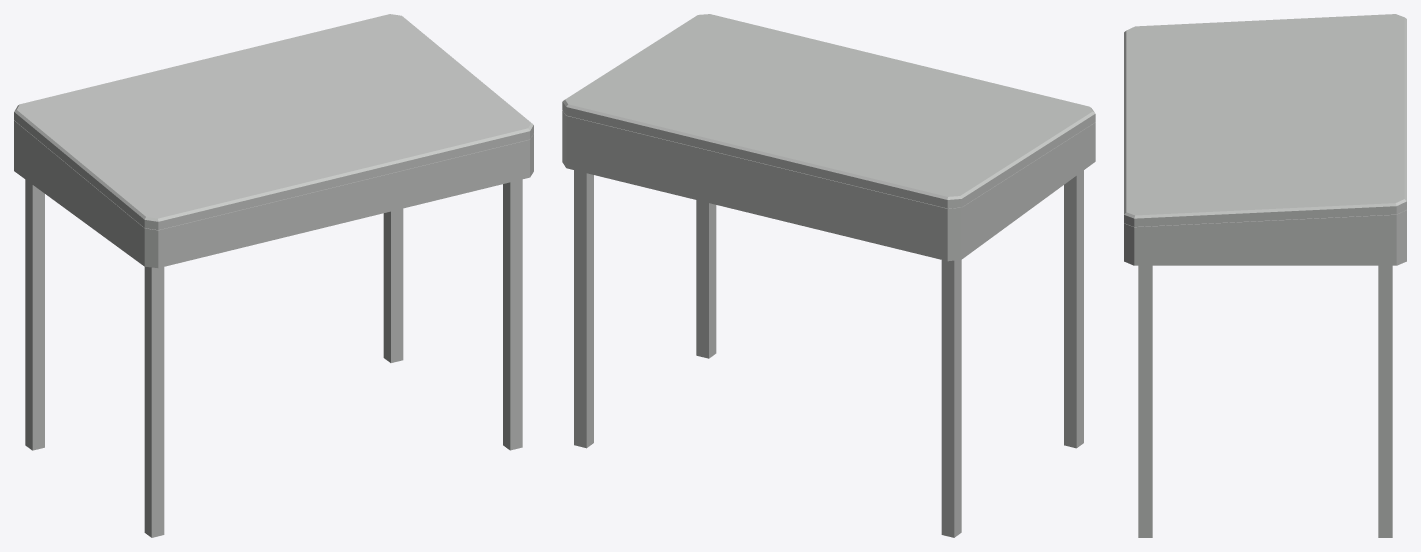
Rendered from SM_Cart_BaoRoof_01.fbx.
The picture shows the model from 3 angles, left to right: view 1: azimuth 30°, elevation 25°; view 2: azimuth 150°, elevation 25°; view 3: azimuth 270°, elevation 25°; orthographic projection. The views are drawn at different scales.
Visible parts, largest first — view 1: SM_Cart_BaoRoof_01; view 2: SM_Cart_BaoRoof_01; view 3: SM_Cart_BaoRoof_01.
Boxes of the visible parts, x1,y1,x2,y2 form: SM_Cart_BaoRoof_01: (14,14,533,537); SM_Cart_BaoRoof_01: (562,14,1095,537); SM_Cart_BaoRoof_01: (1124,14,1406,537).
Size of the model in its own units: 1.56 by 1.29 by 0.978.
Materials: 1 (1 with a texture image).
